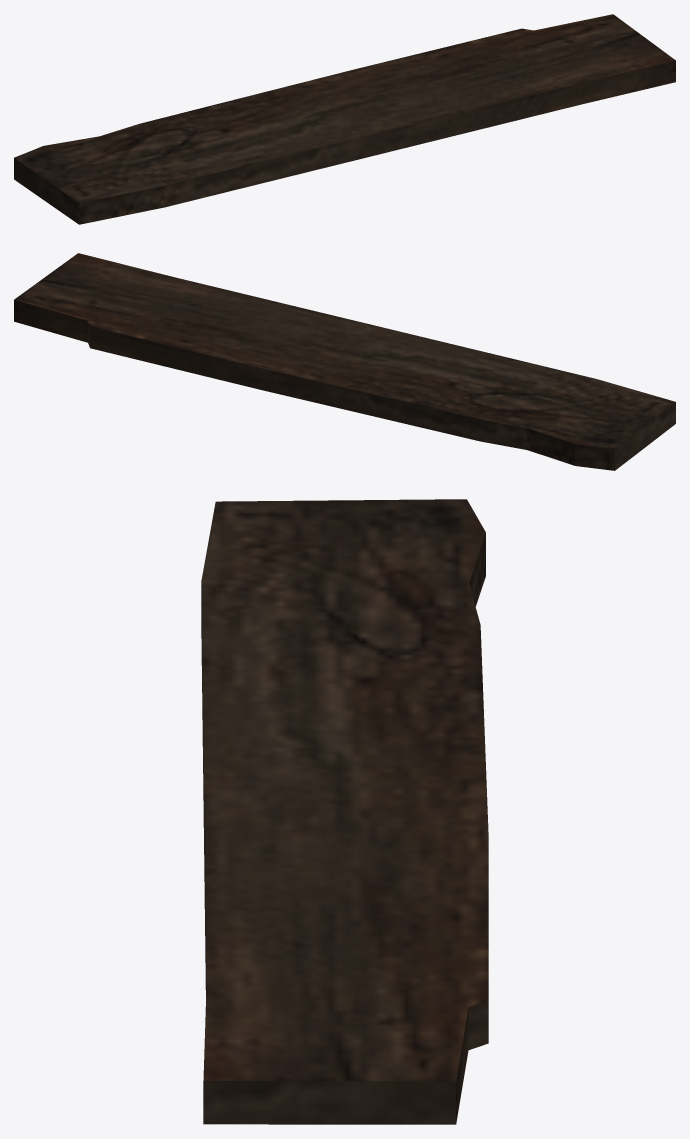
Rendered from wooden_plank_5.fbx.
3 views of the same model, one above another, from view 1: azimuth 30°, elevation 25°; view 2: azimuth 150°, elevation 25°; view 3: azimuth 270°, elevation 25° (orthographic). The views are drawn at different scales.
Parts seen in each view (by area): view 1: wooden_plank_5; view 2: wooden_plank_5; view 3: wooden_plank_5.
Boxes of the visible parts, x1,y1,x2,y2 form: wooden_plank_5: (14,14,675,224); wooden_plank_5: (14,253,675,470); wooden_plank_5: (201,499,488,1124).
Size of the model in its own units: 0.864 by 0.1802 by 0.03.
